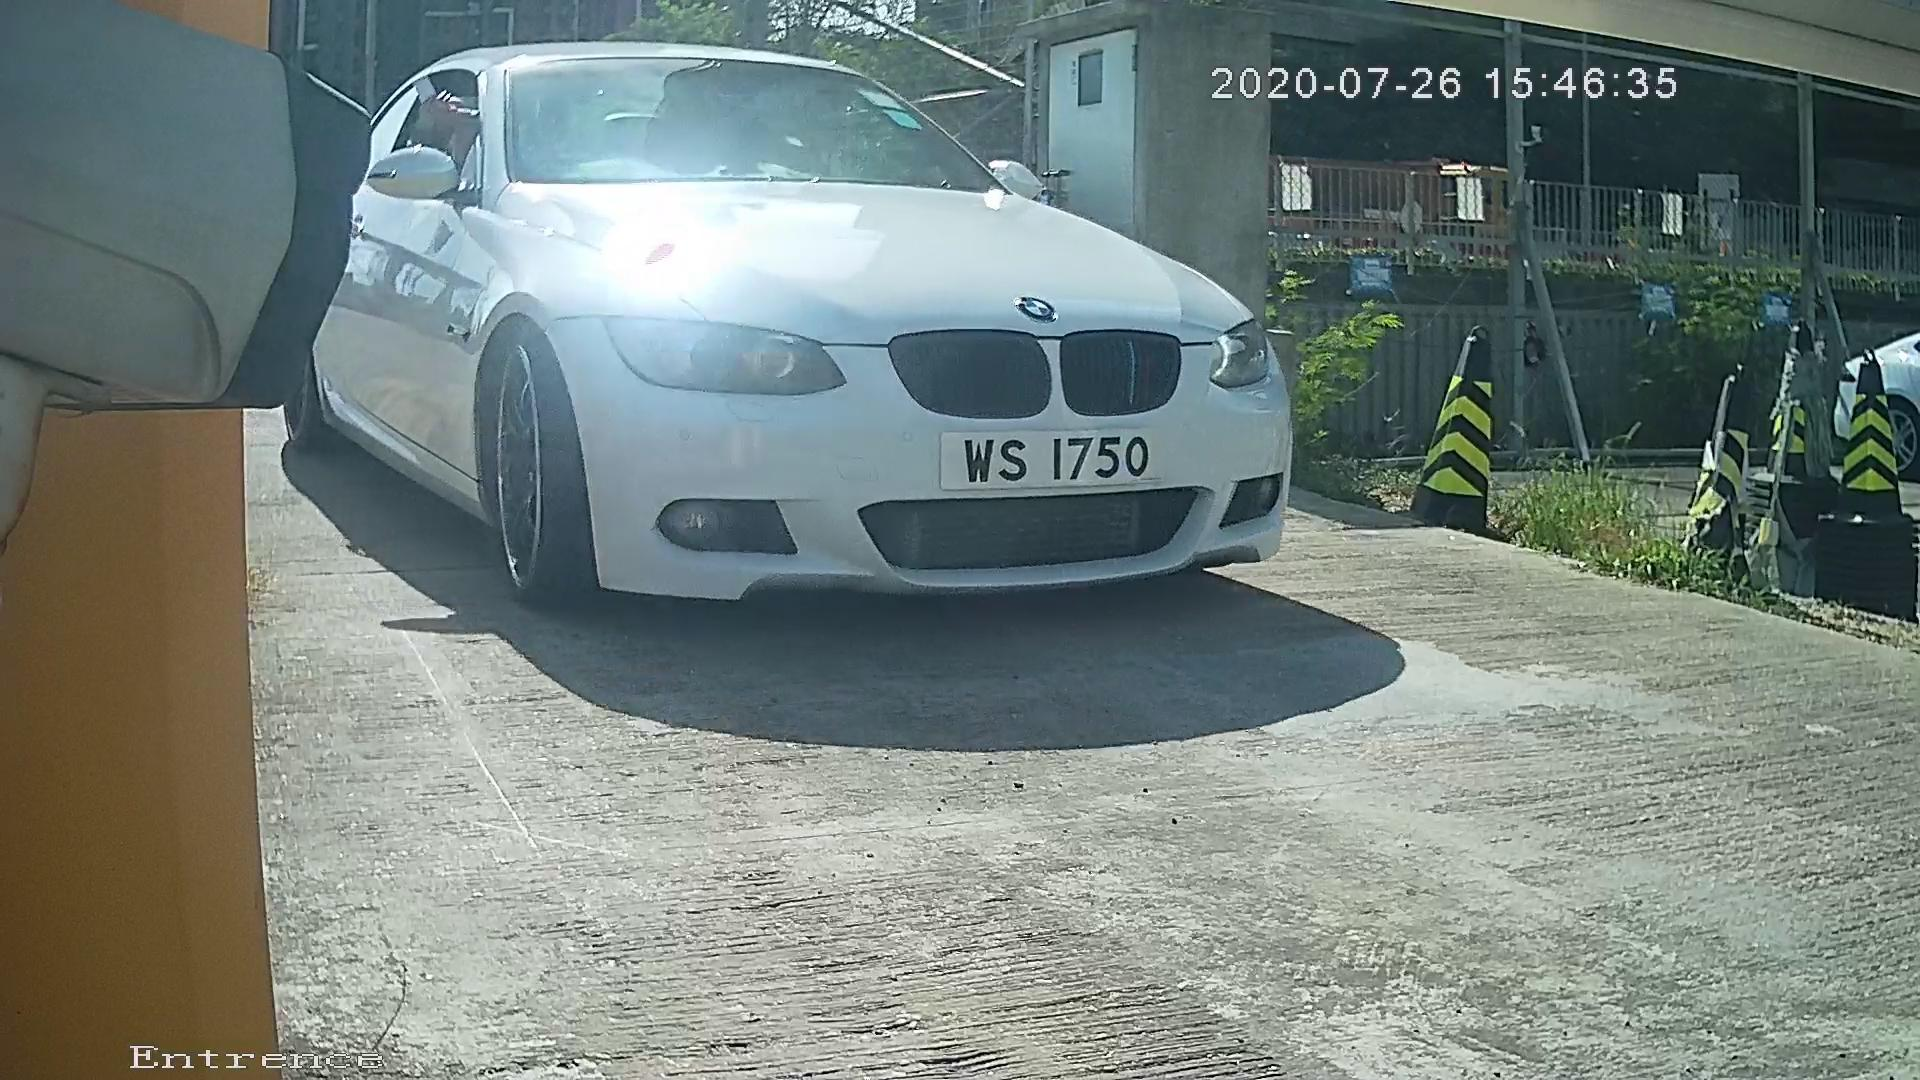privatecar: (261, 36, 1364, 708)
